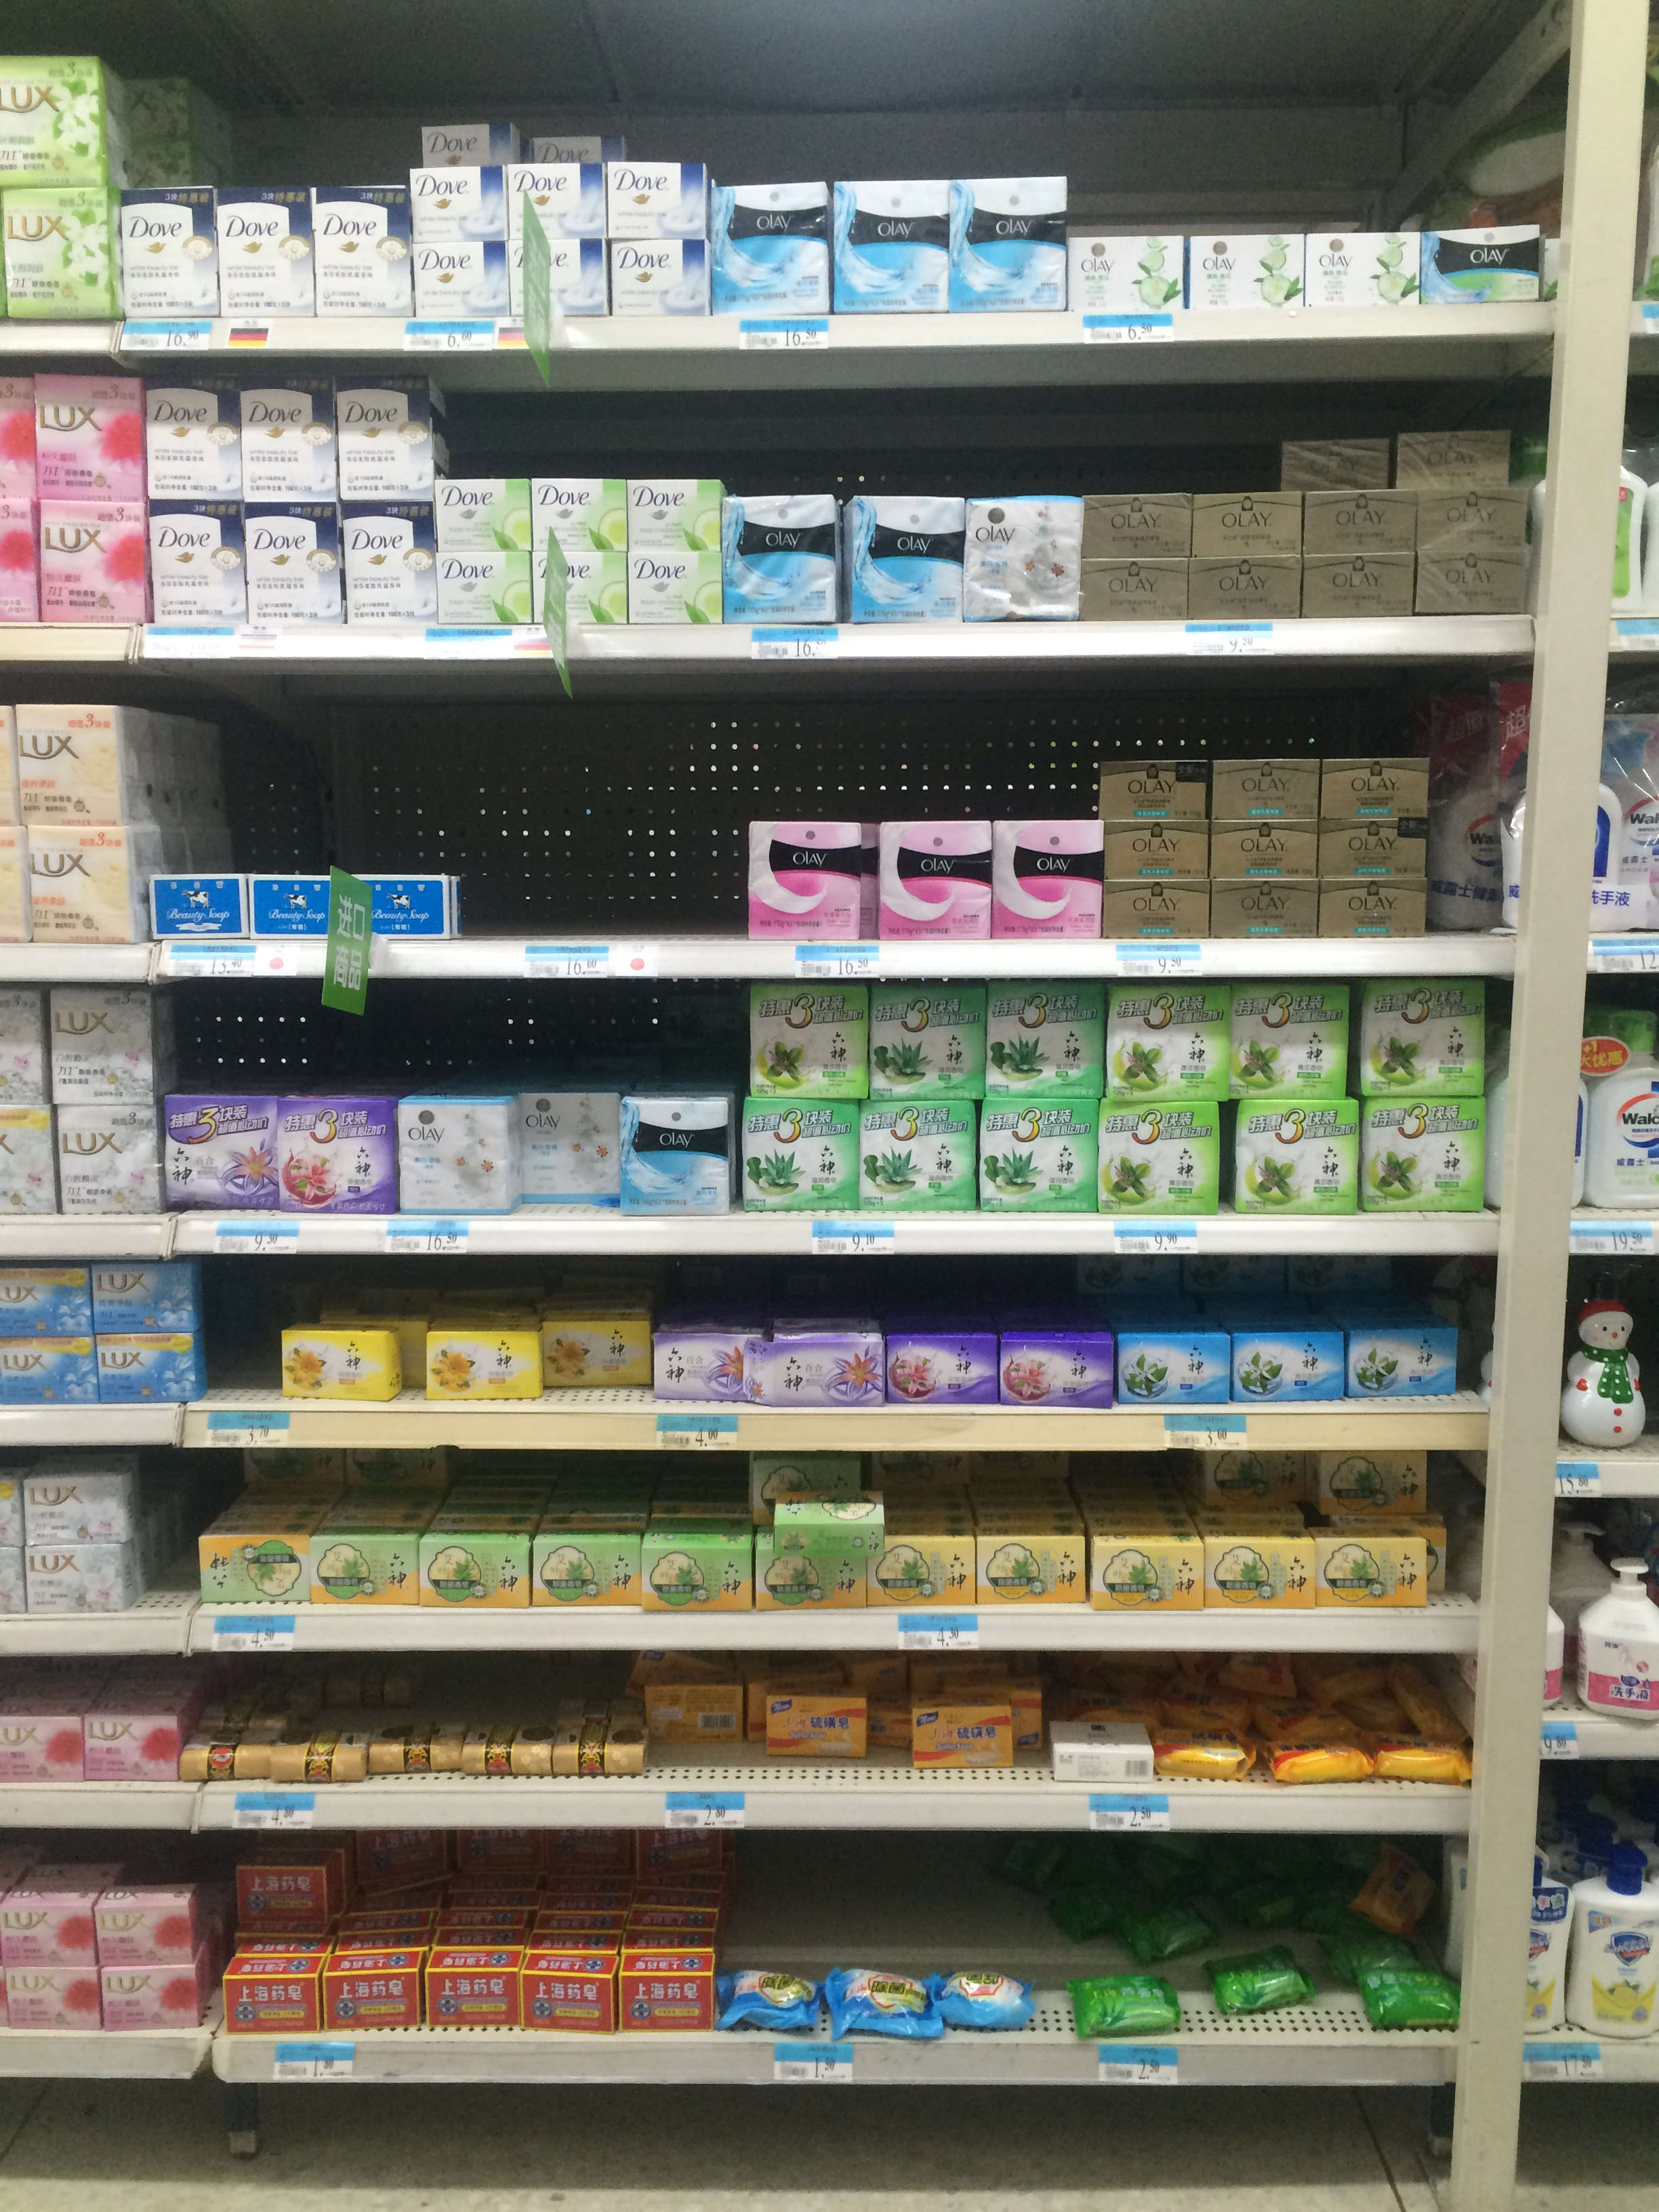Out-of-stock: (455, 681, 748, 930)
